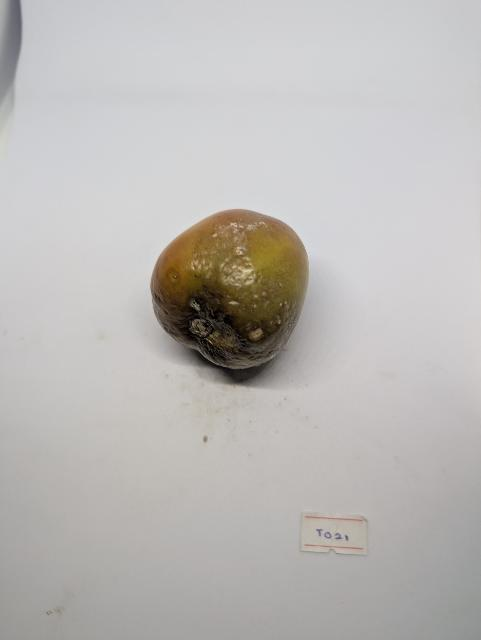defect: (145, 205, 318, 377)
